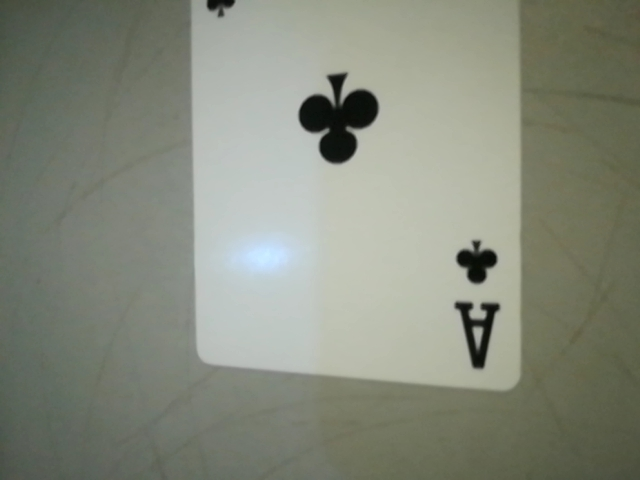mh a: (438, 227, 513, 380)
